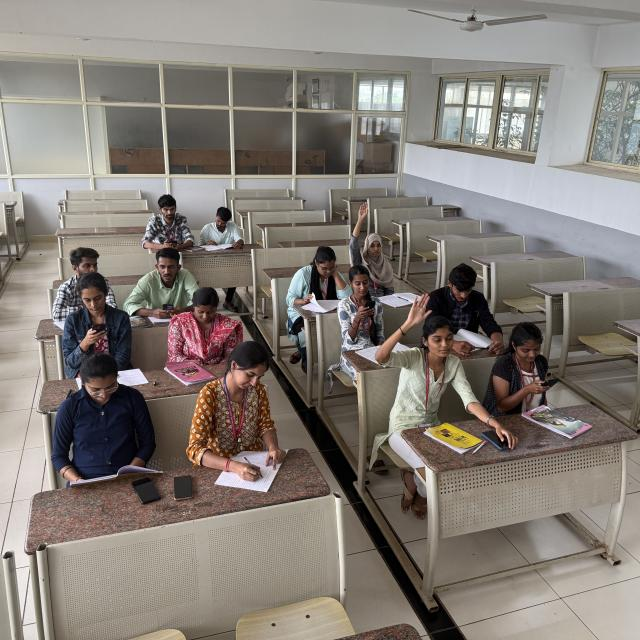Hand Rising: (376, 293, 464, 413), (347, 201, 398, 292)
Reading: (52, 359, 162, 482), (425, 264, 502, 346), (282, 245, 353, 312), (204, 206, 246, 252)
Using Phone: (58, 272, 132, 358), (491, 319, 562, 406), (131, 247, 194, 321), (184, 286, 236, 370), (140, 192, 198, 252), (340, 267, 385, 341)
Writing: (195, 340, 289, 489)
